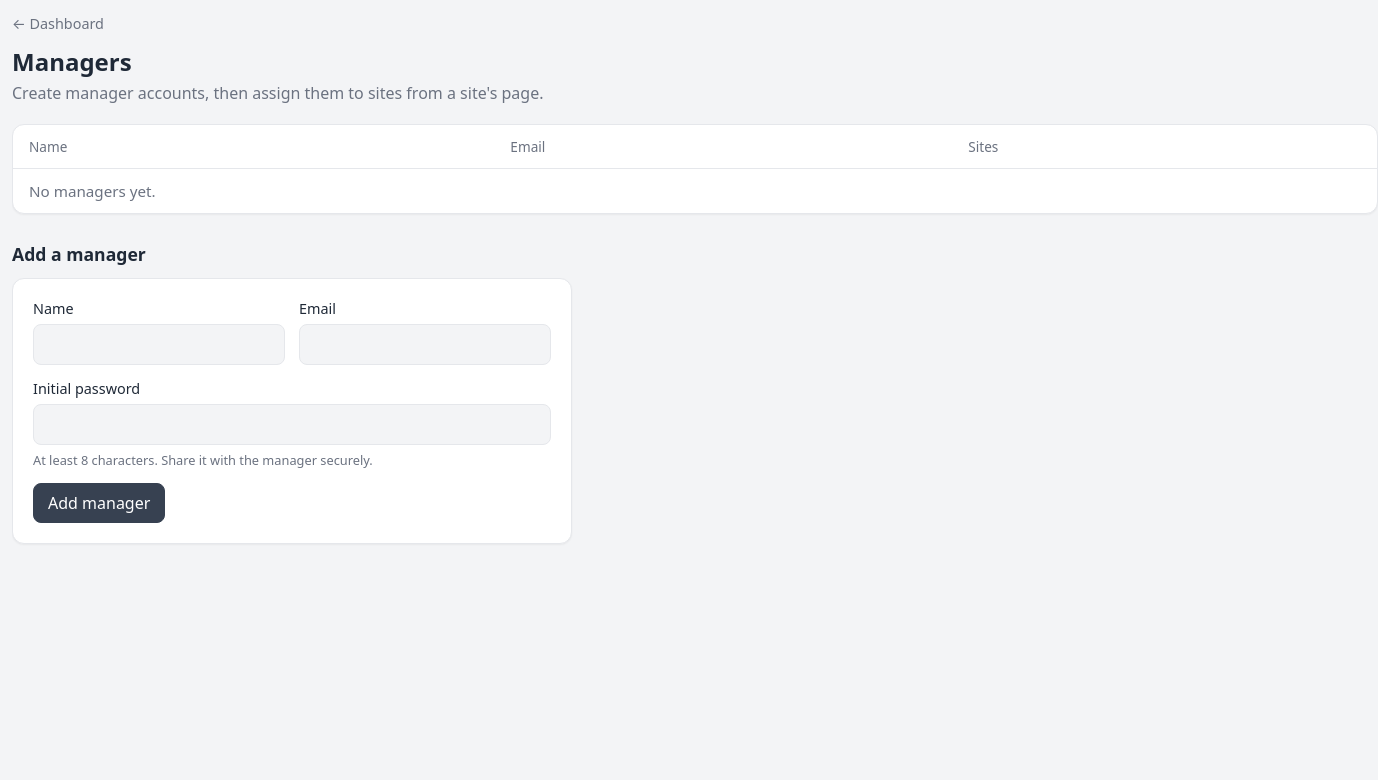
it: ManagersPage › creates a manager and clears the form
Type "Mia" into the field labelled "Name". click: [159, 344]
box: [33,324,285,365]
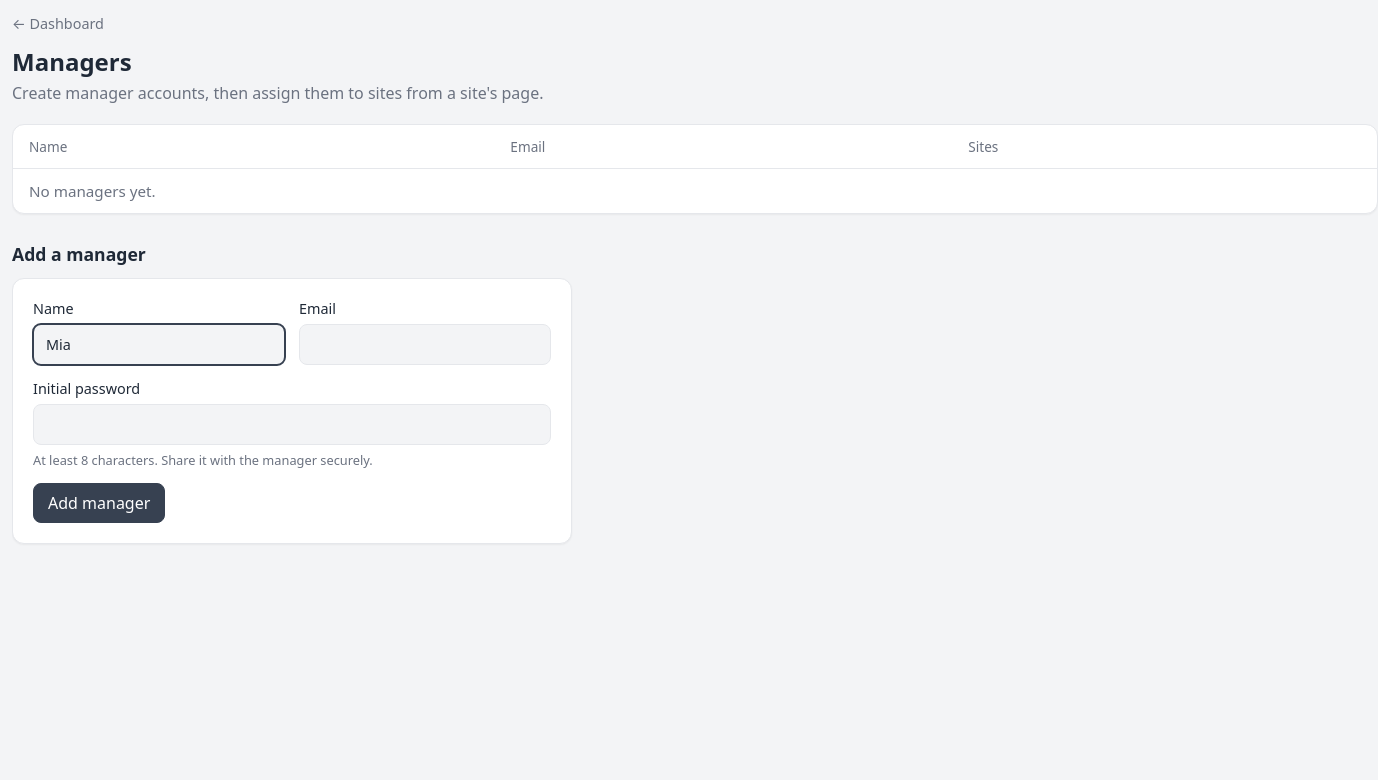
Type "mia@example.com" into the field labelled "Email". click: [425, 344]
box: [299,324,551,365]
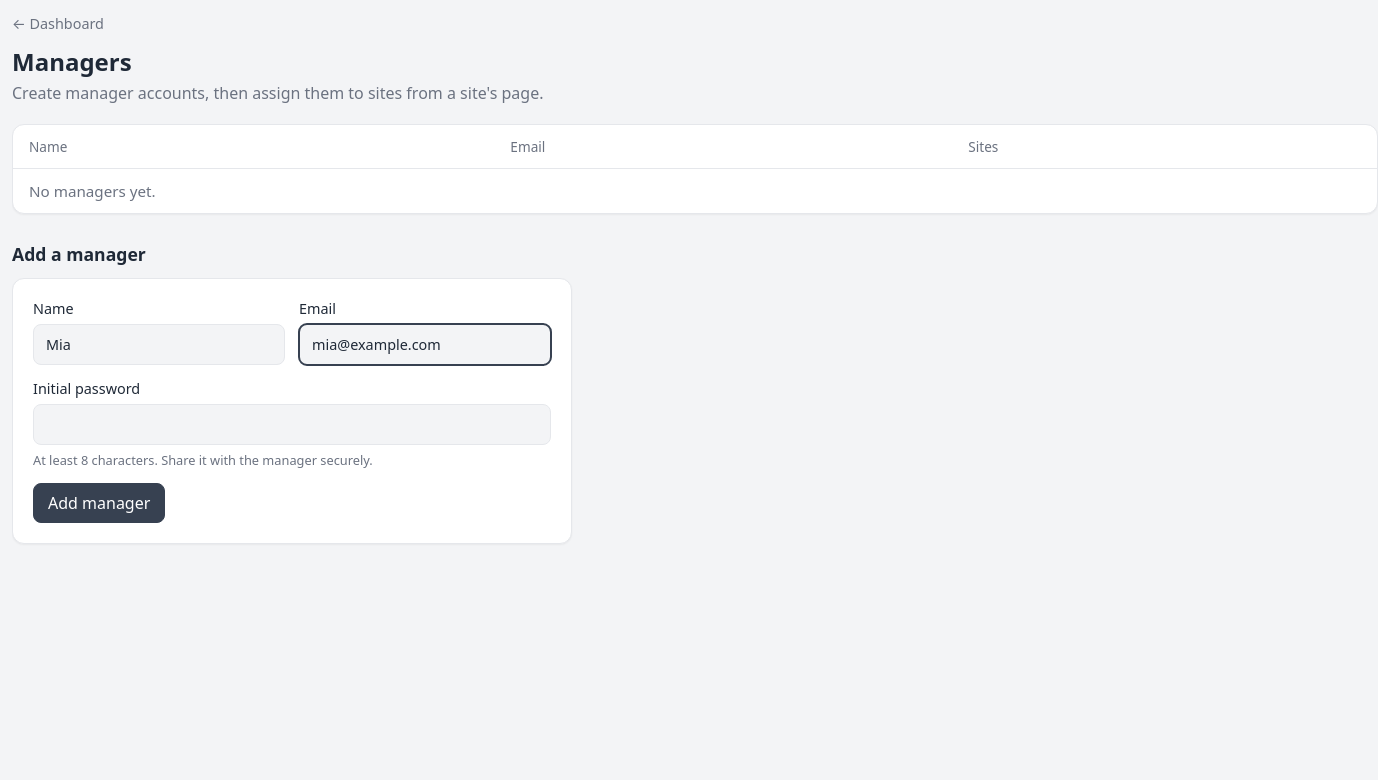
Type "password123" into the password field labelled "Initial password". click: [292, 424]
box: [33,404,551,445]
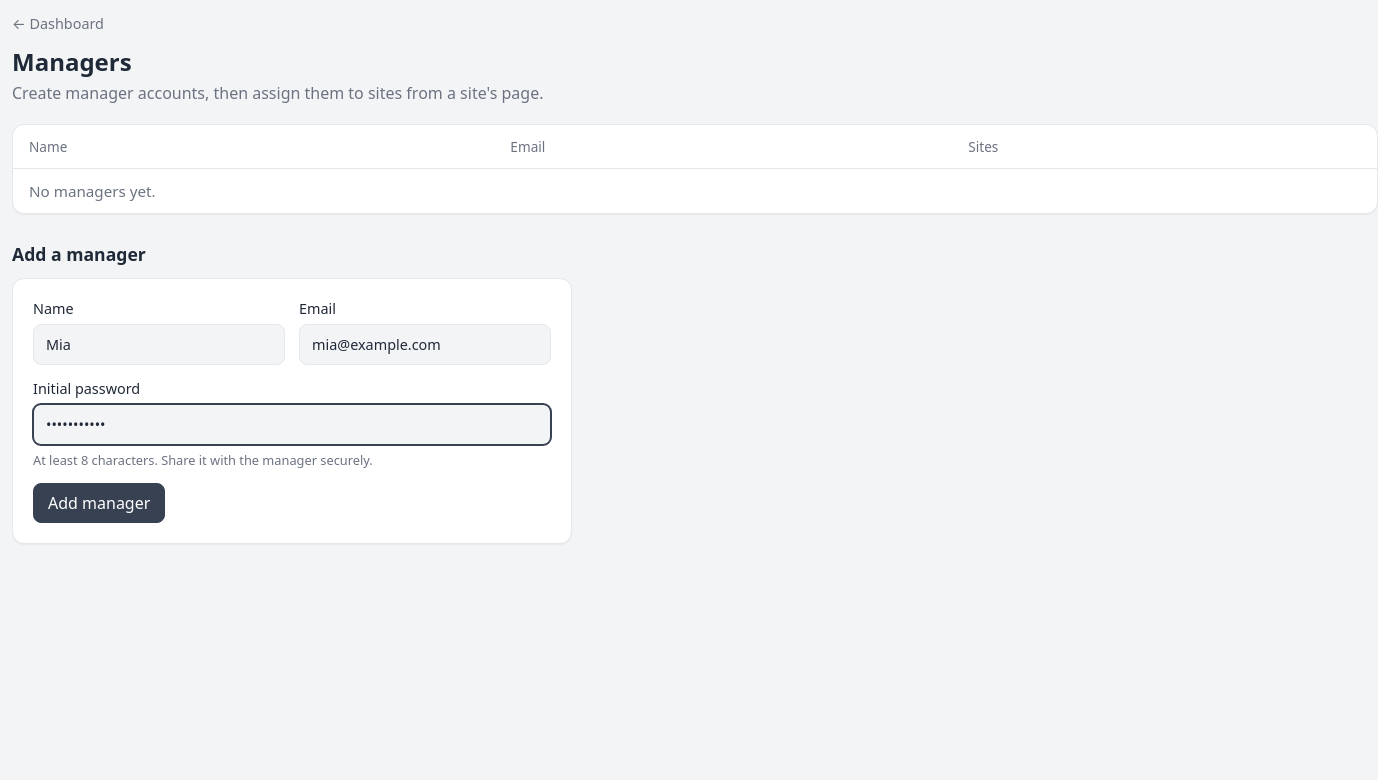
Click the button "Add manager". click: [99, 503]
box: [33,483,165,523]
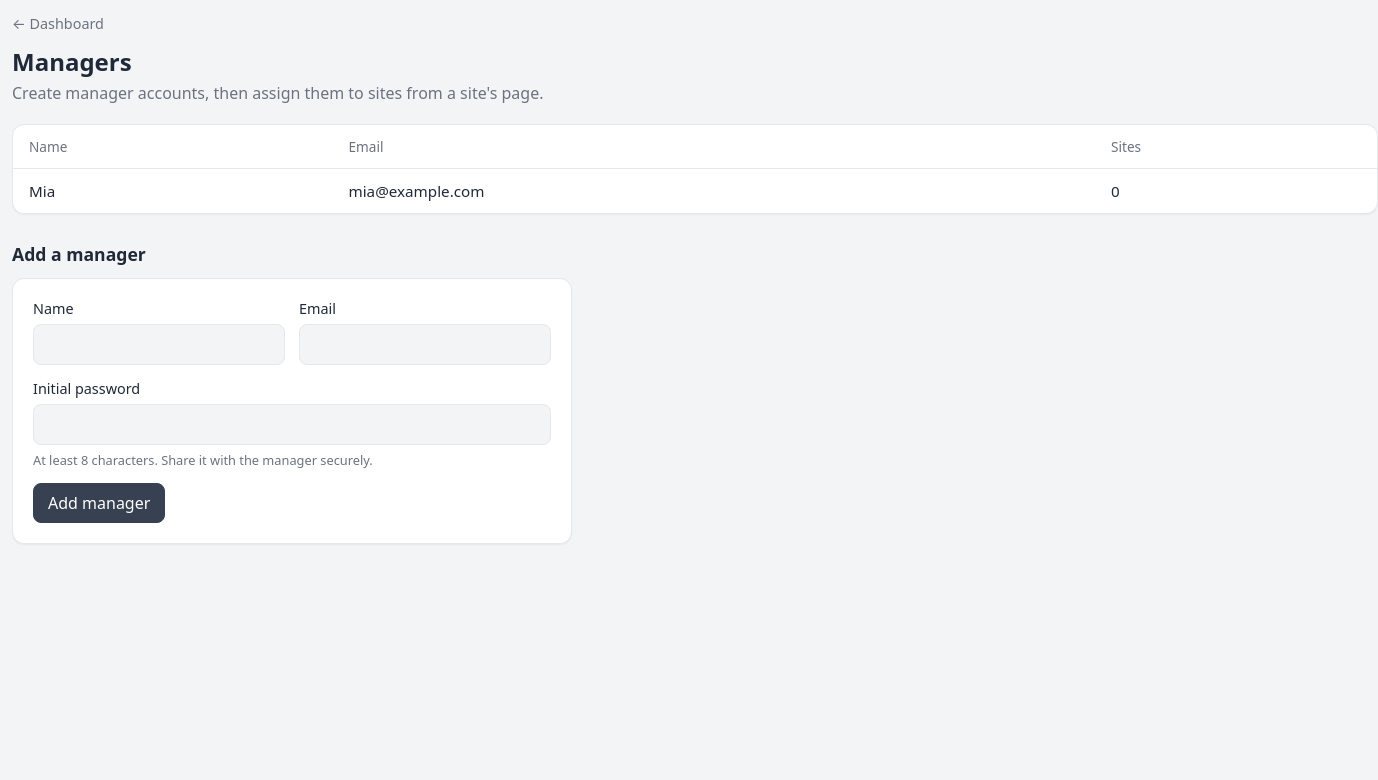
Now the text "mia@example.com" is shown, box [332,168,1095,213]
Now the field labelled "Name" is empty, box [33,324,285,365]
